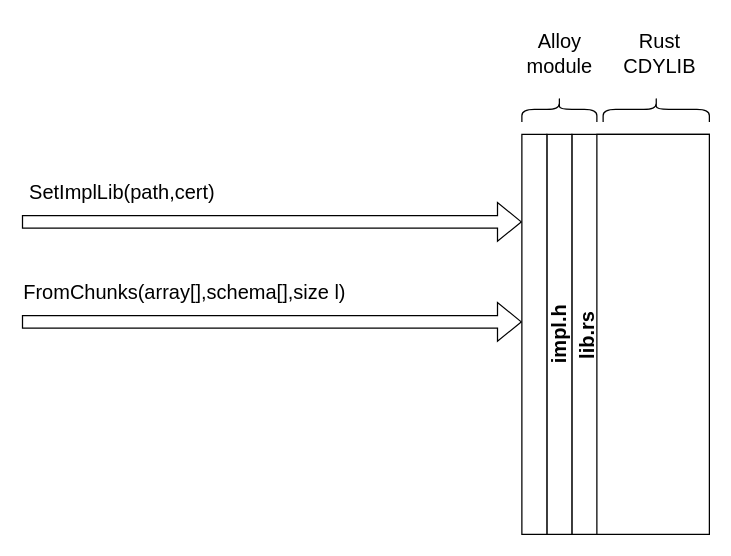
Some shapes in this 731 by 556 pixel diagram are drawn without their labels. Here are the shapes that lost their labels. From the top down, the centre of each, then its label:
At point (534, 333): "alloy golang layer".
At point (652, 333): "CDYLIB Implentation Runtime configured".
